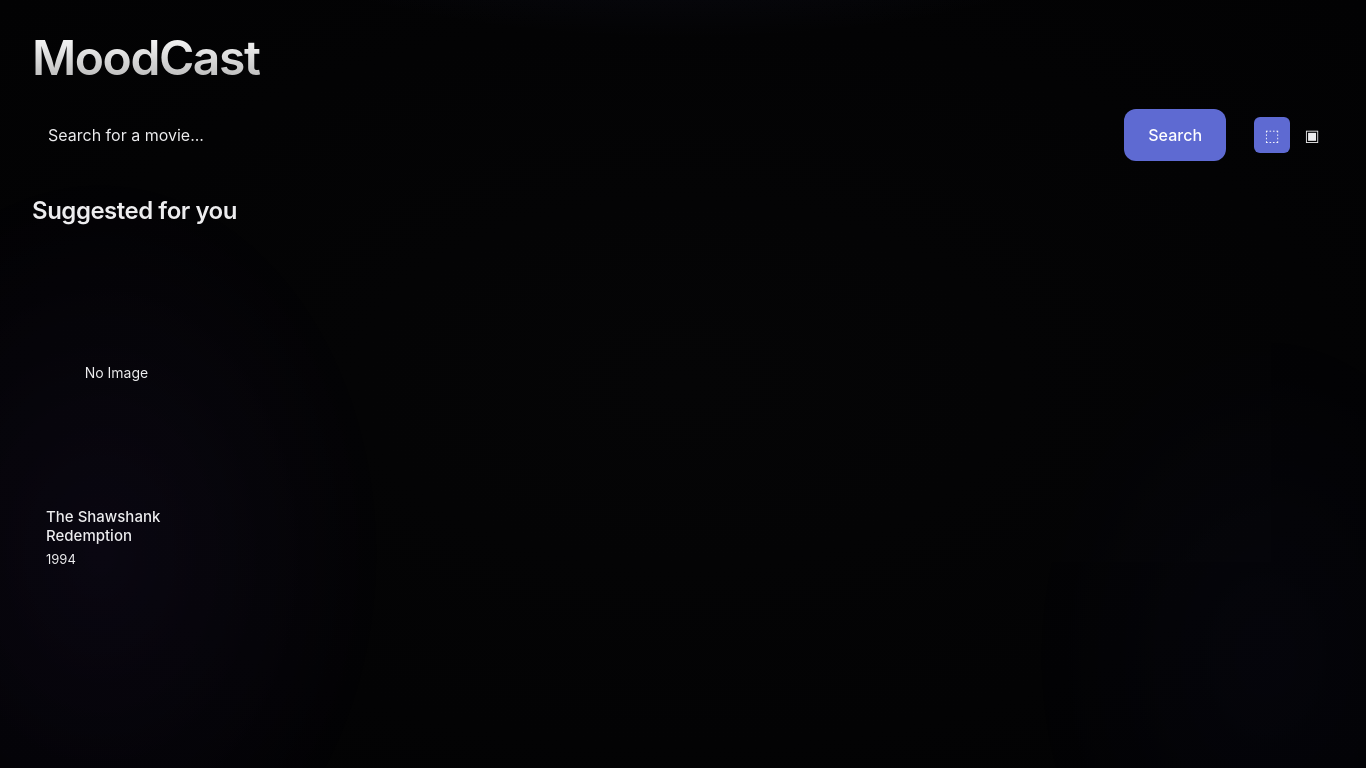
Scenario: Movie Card Interactions › shows preview after hovering on card for 700ms
Hover over the card
Hover over the text "The Shawshank Redemption" at (116, 373), box [46,364,160,567]
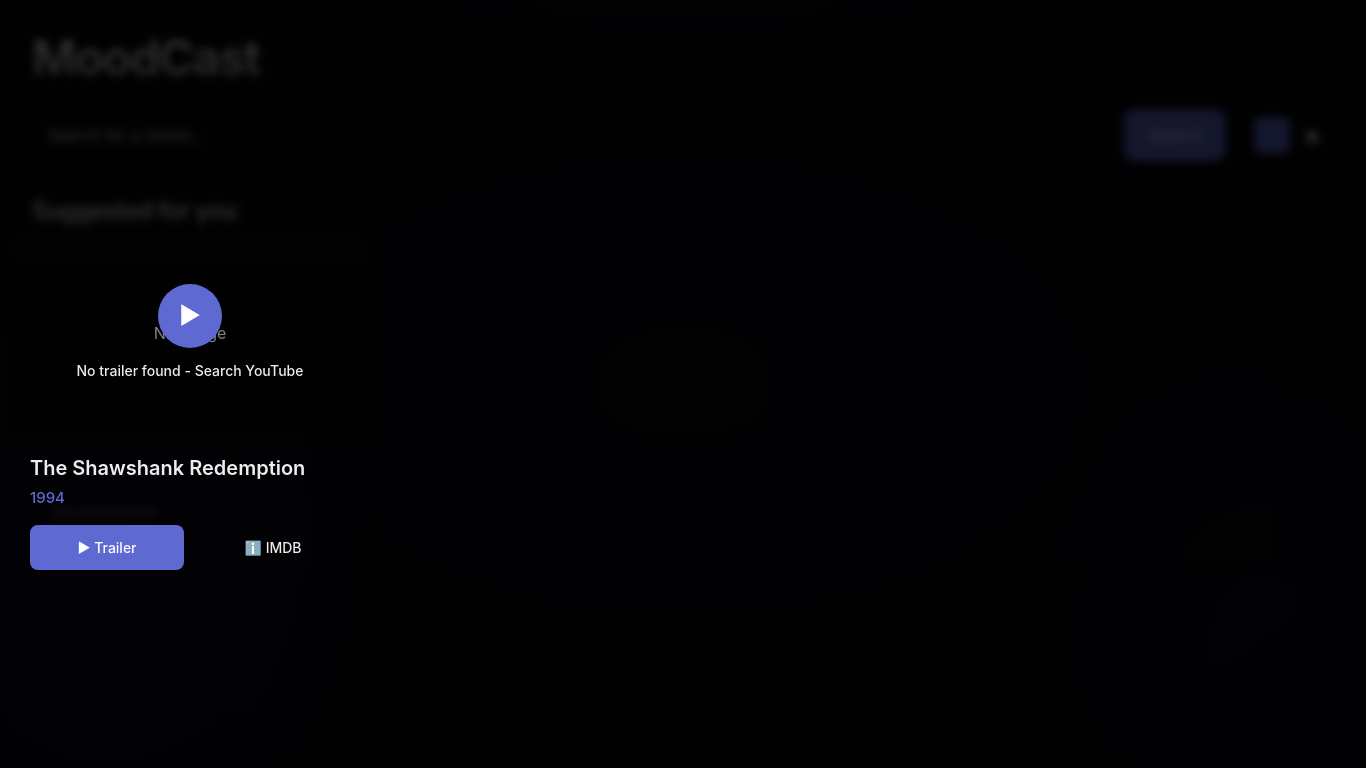
Check: the button "▶ Trailer" is shown, box [30,525,184,570]
